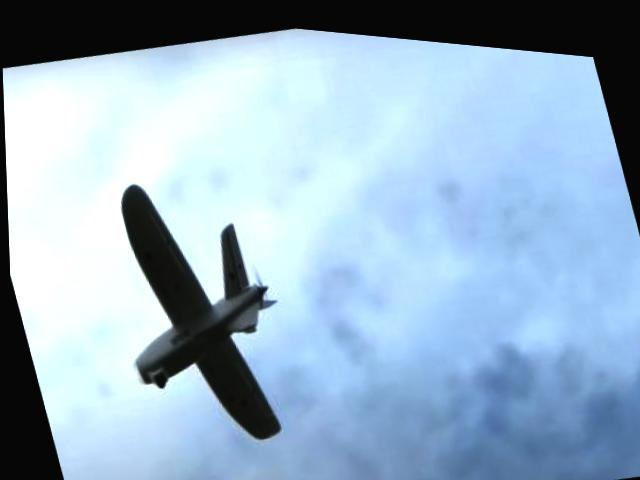uav: (85, 149, 308, 458)
